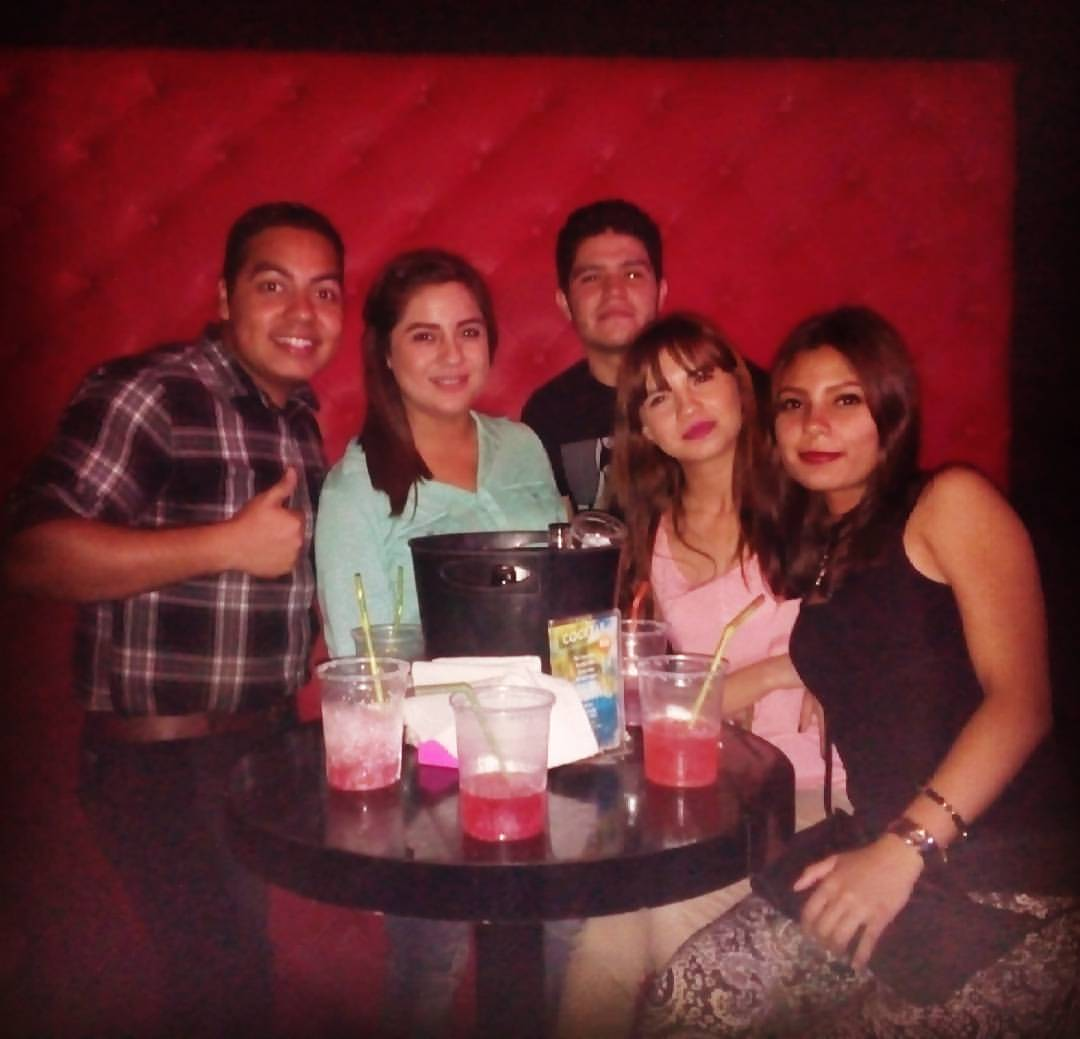Yoshi: (170, 187, 354, 403)
